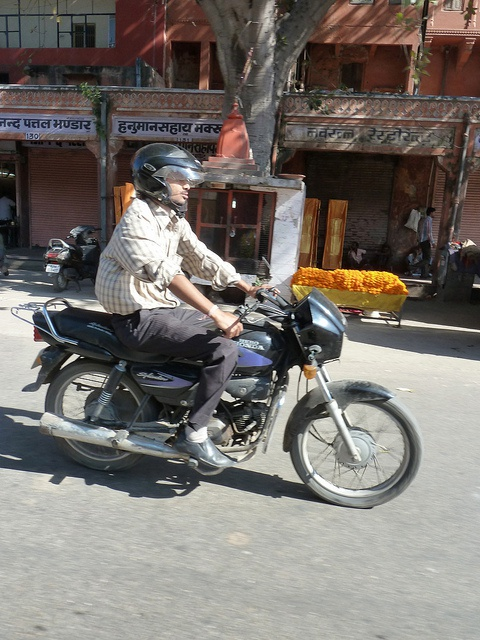non-vehicle: (9, 285, 423, 507), (43, 223, 102, 291)
